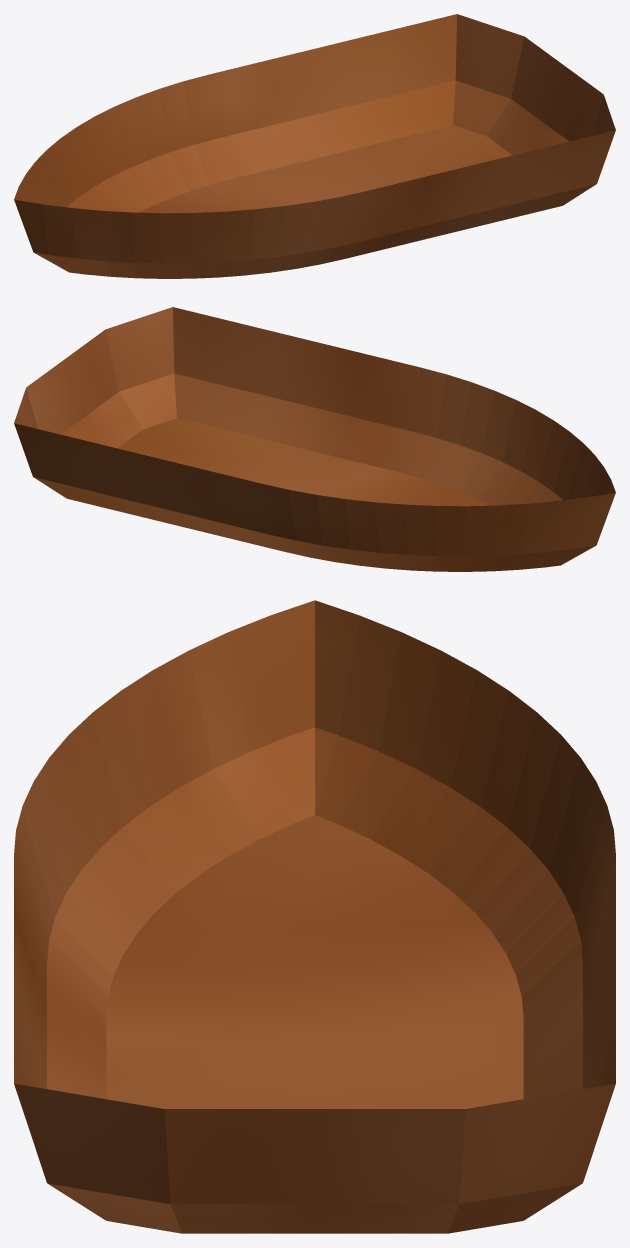
File: GMLID_0598627_75956_700.dae
The picture shows the model from 3 angles, top to bottom: view 1: azimuth 30°, elevation 25°; view 2: azimuth 150°, elevation 25°; view 3: azimuth 270°, elevation 25°; orthographic projection. The views are drawn at different scales.
Bounding box in the file's own units: 3 × 1.5 × 0.45.
Materials: 1 (1 with a texture image).
